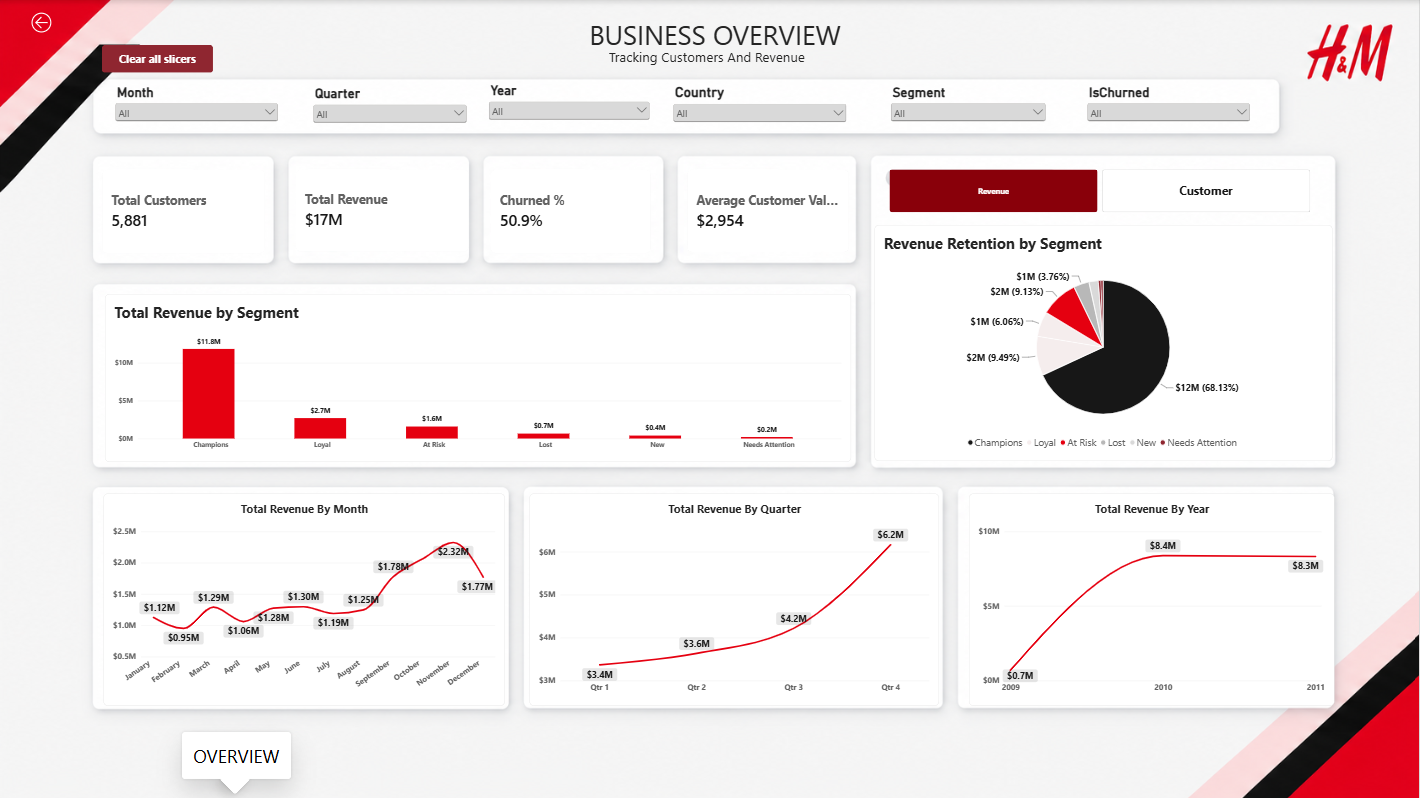

This screenshot's page, from the dashboard's own definition file:
{"tool":"powerbi","page":{"name":"OVERVIEW ","canvas":[2560,1440],"ordinal":1},"visuals":[{"type":"cardVisual","fields":{"Data":["Sheet1.Total Customers"]},"box":[183.8,305.5,294.7,151.4],"z":0},{"type":"columnChart","title":"Total Revenue by Segment","fields":{"Category":["Sheet1.Segment"],"Y":["Sheet1.Total Revenue"]},"box":[188.6,528.6,1344.6,302.8],"z":0,"group":"g1"},{"type":"cardVisual","fields":{"Data":["Sheet1.Total Revenue"]},"box":[532.6,305.5,313.6,148.7],"z":1000},{"type":"pieChart","title":"Revenue Retention by Segment ","fields":{"Category":["Sheet1.Segment"],"Series":["Sheet1.IsChurned"],"Y":["Sheet1.Total Revenue"]},"box":[1575,405,825,425],"z":1000,"group":"g1"},{"type":"cardVisual","fields":{"Data":["Sheet1.Churned %"]},"box":[884,305.5,289.3,151.4],"z":2000},{"type":"lineChart","title":"Total Revenue By Month ","fields":{"Category":["Sheet1.InvoiceDate.Variation.Date Hierarchy.Month"],"Y":["Sheet1.Total Revenue"]},"box":[185.3,888.2,723.5,382.4],"z":2000,"group":"g1"},{"type":"cardVisual","fields":{"Data":["Sheet1.Average Customer Value"]},"box":[1238.2,305.5,292,148.7],"z":3000},{"type":"lineChart","title":"Total Revenue By Quarter","fields":{"Category":["Sheet1.InvoiceMonth.Variation.Date Hierarchy.Quarter"],"Y":["Sheet1.Total Revenue"]},"box":[952.9,888.2,738.2,382.4],"z":3000,"group":"g1"},{"type":"slicer","fields":{"Values":["Sheet1.InvoiceDate.Variation.Date Hierarchy.Month"]},"box":[202.8,151.4,302.8,113.5],"z":4000},{"type":"lineChart","title":"Total Revenue By Year ","fields":{"Category":["Sheet1.InvoiceMonth.Variation.Date Hierarchy.Year"],"Y":["Sheet1.Total Revenue"]},"box":[1744.1,888.2,658.8,382.4],"z":4000,"group":"g1"},{"type":"slicer","fields":{"Values":["Sheet1.InvoiceDate.Variation.Date Hierarchy.Quarter"]},"box":[559.6,154.1,286.6,73],"z":5000},{"type":"slicer","fields":{"Values":["Sheet1.InvoiceDate.Variation.Date Hierarchy.Year"]},"box":[875.2,148.4,299.8,93.9],"z":6000},{"type":"slicer","fields":{"Values":["Sheet1.Country"]},"box":[1208.4,151.4,321.7,91.9],"z":7000},{"type":"slicer","fields":{"Values":["Sheet1.Segment"]},"box":[1600.4,151.4,289.3,91.9],"z":8000},{"type":"slicer","fields":{"Values":["Sheet1.IsChurned"]},"box":[1953.3,151.4,302.8,90.9],"z":9000},{"type":"group","id":"g1","title":"Revenue ","box":[185.3,405,2217.6,865.6],"z":11000},{"type":"bookmarkNavigator","box":[1602.3,304.3,758.8,77],"z":12000},{"type":"textbox","box":[1024.6,29.7,527.2,148.7],"z":13000},{"type":"actionButton","box":[0,0,148.7,81.1],"z":14000},{"type":"actionButton","box":[183.8,81.1,200,50],"z":15000},{"type":"textbox","box":[1097.6,86.5,362.3,43.3],"z":16000}]}

Visuals, with their boxes in screenshot pixels (x1, y1, x2, y2), scaled from the page's 2560x1440 canvas onto the 1420x798 screenshot:
cardVisual - Sheet1.Total Customers: <region>102, 169, 265, 253</region>
"Total Revenue by Segment" columnChart: <region>105, 293, 850, 461</region>
cardVisual - Sheet1.Total Revenue: <region>295, 169, 469, 252</region>
"Revenue Retention by Segment " pieChart: <region>874, 224, 1331, 460</region>
cardVisual - Sheet1.Churned %: <region>490, 169, 651, 253</region>
"Total Revenue By Month " lineChart: <region>103, 492, 504, 704</region>
cardVisual - Sheet1.Average Customer Value: <region>687, 169, 849, 252</region>
"Total Revenue By Quarter" lineChart: <region>529, 492, 938, 704</region>
slicer - Sheet1.InvoiceDate.Variation.Date Hierarchy.Month: <region>112, 84, 280, 147</region>
"Total Revenue By Year " lineChart: <region>967, 492, 1333, 704</region>
slicer - Sheet1.InvoiceDate.Variation.Date Hierarchy.Quarter: <region>310, 85, 469, 126</region>
slicer - Sheet1.InvoiceDate.Variation.Date Hierarchy.Year: <region>485, 82, 652, 134</region>
slicer - Sheet1.Country: <region>670, 84, 849, 135</region>
slicer - Sheet1.Segment: <region>888, 84, 1048, 135</region>
slicer - Sheet1.IsChurned: <region>1083, 84, 1251, 134</region>
"Revenue " group: <region>103, 224, 1333, 704</region>
bookmarkNavigator: <region>889, 169, 1310, 211</region>
textbox: <region>568, 16, 861, 99</region>
actionButton: <region>0, 0, 82, 45</region>
actionButton: <region>102, 45, 213, 73</region>
textbox: <region>609, 48, 810, 72</region>
